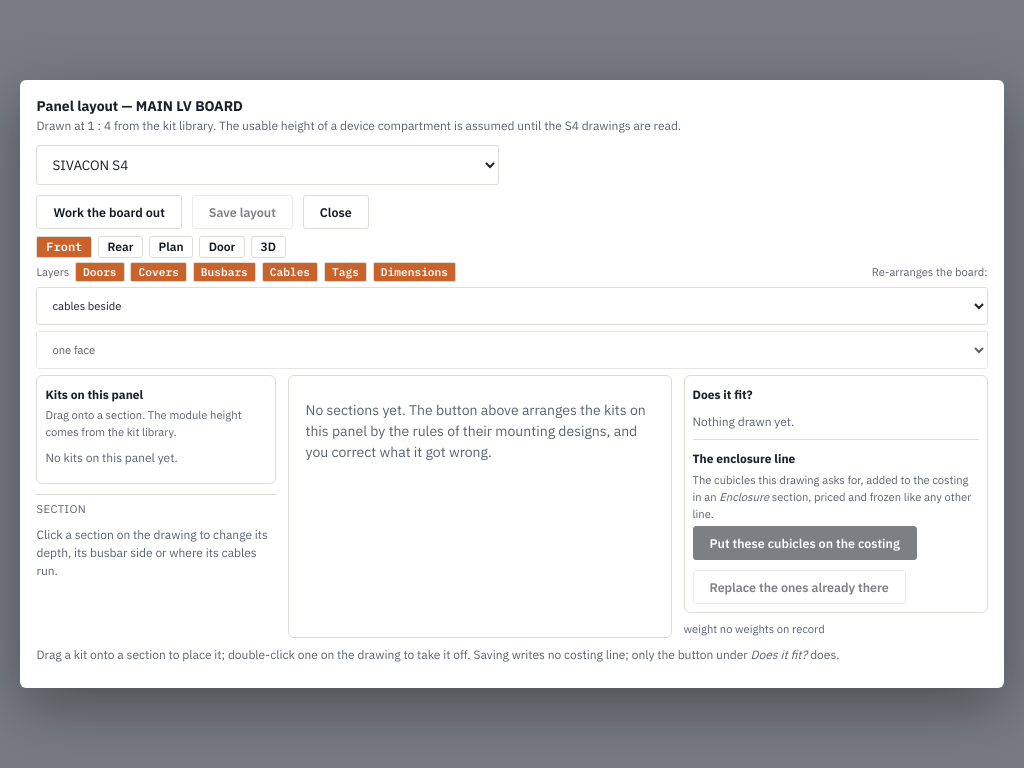
it: the panel layout pop-up › arranges the board and shows the verdict per section
Click the button "Work the board out". click: (109, 212)
box: [36,195,182,229]
(page scrolled)
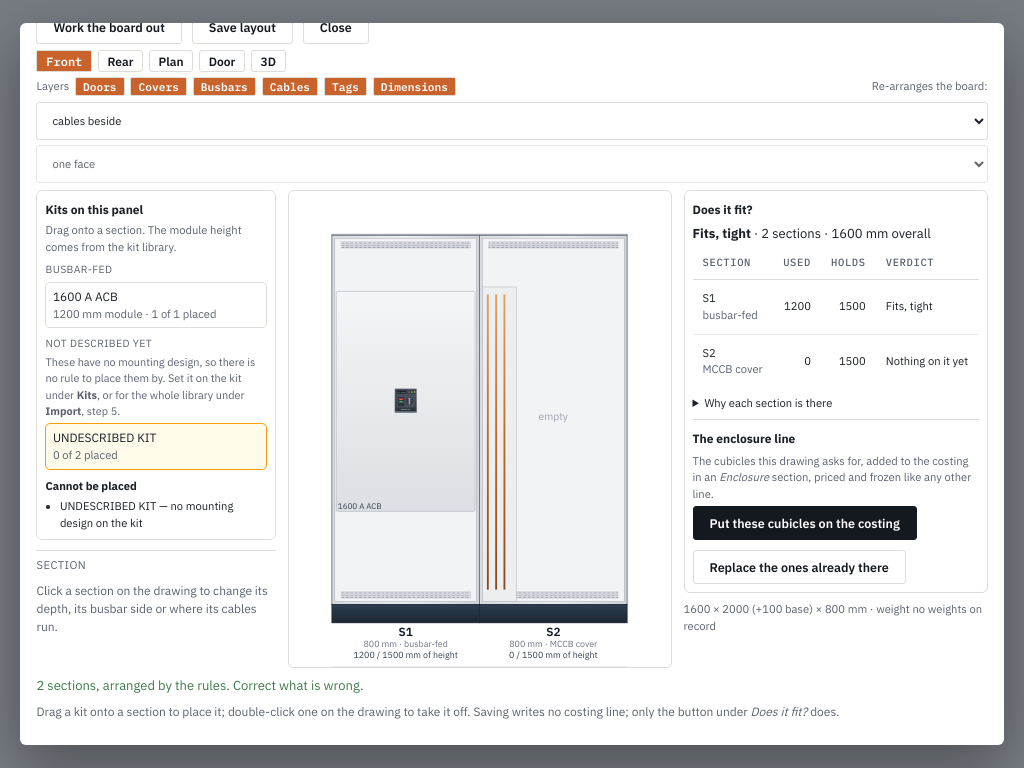
Check: the text "2 sections, arranged by the rules. Correct what is wrong." is shown, box [36,677,364,694]
